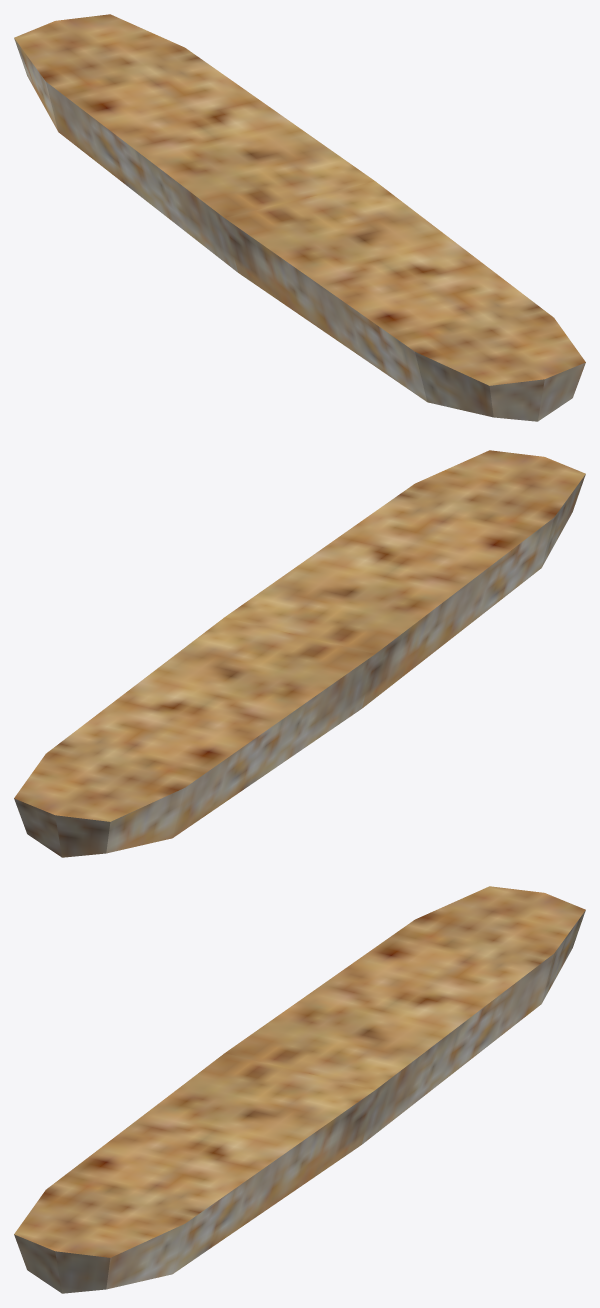
Rendered from oatveil_roll_bottom.fbx.
3 views of the same model, one above another, from view 1: azimuth 30°, elevation 25°; view 2: azimuth 150°, elevation 25°; view 3: azimuth 330°, elevation 25° (orthographic).
Parts seen in each view (by area): view 1: oatveil roll bottom; view 2: oatveil roll bottom; view 3: oatveil roll bottom.
Part boxes in pixels (x1,y1,x2,y2): oatveil roll bottom: (14,14,585,421); oatveil roll bottom: (14,450,585,857); oatveil roll bottom: (14,886,585,1293).
Bounding box in the file's own units: 0.2082 × 1.17 × 0.0984.
